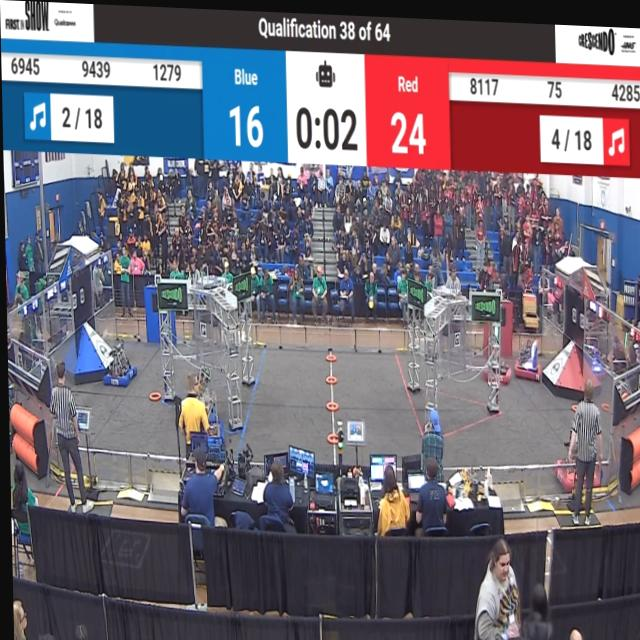Robot: (548, 387, 600, 488), (478, 312, 513, 378), (511, 320, 546, 384), (97, 335, 138, 388), (204, 399, 233, 449), (205, 371, 224, 431)
